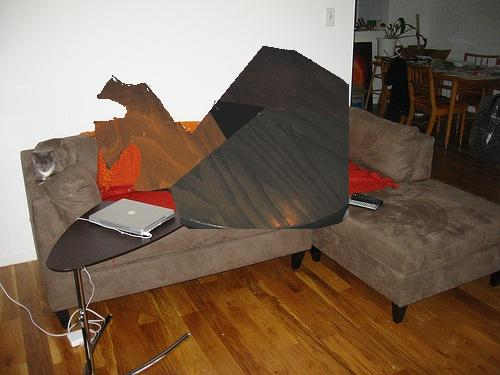tampered: (94, 47, 349, 229)
